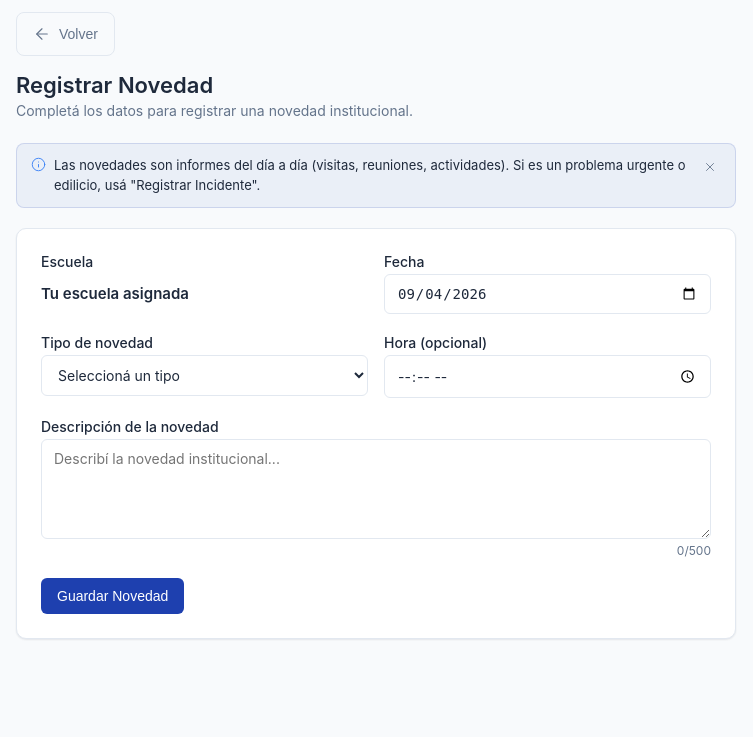
Novedades › sin conexión guarda localmente y marca la sincronización pendiente
Select "Otro" in the dropdown labelled "Tipo de novedad" at (204, 376), box top-left (41, 355), bottom-right (368, 396)
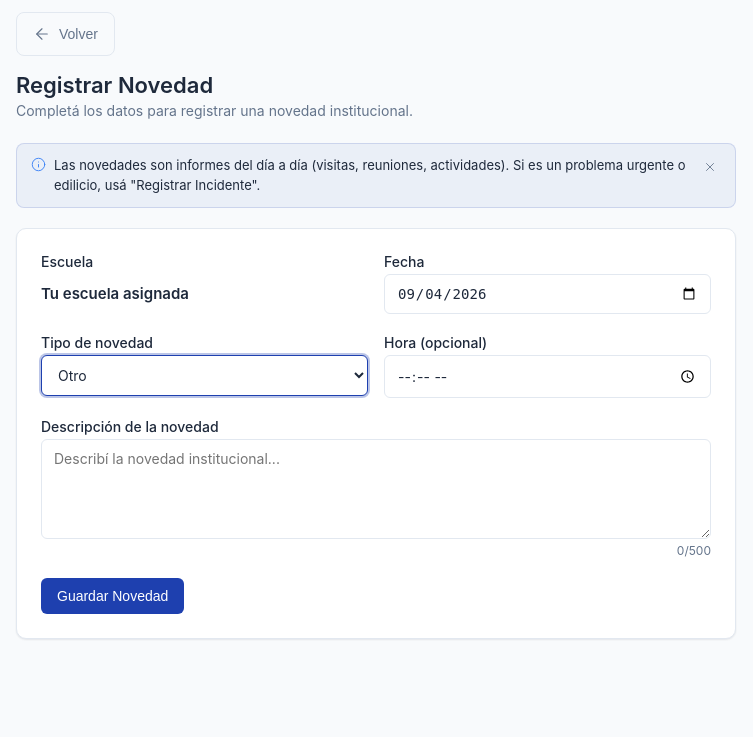
Type "Cortó la luz en el edificio" into the text box with placeholder "Describí la novedad institucional..." at (376, 489), box top-left (41, 439), bottom-right (711, 539)
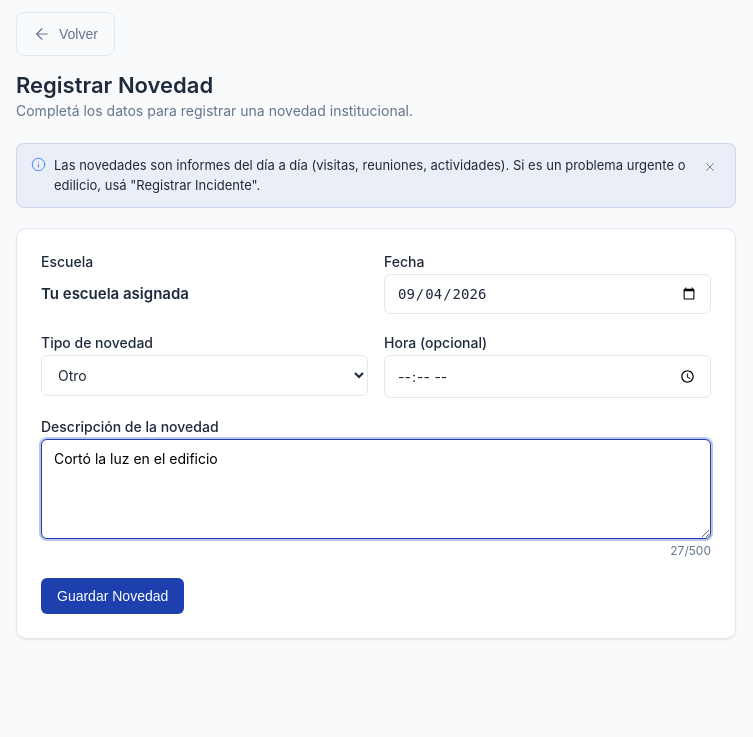
Click the button "Guardar Novedad" at (113, 596), box top-left (41, 578), bottom-right (184, 614)
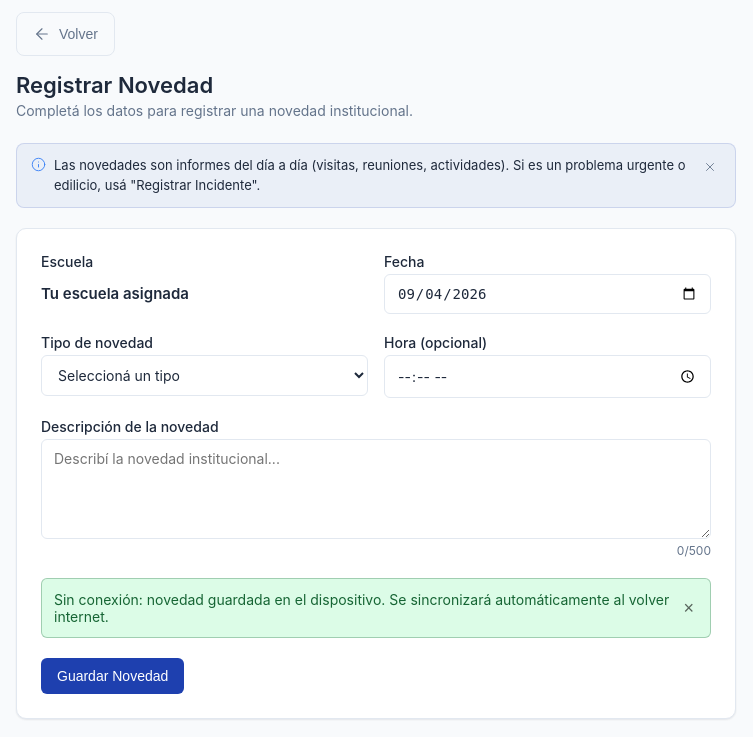
Now the text "Sin conexión: novedad guardada en el dispositivo" is shown, box top-left (54, 591), bottom-right (669, 625)
